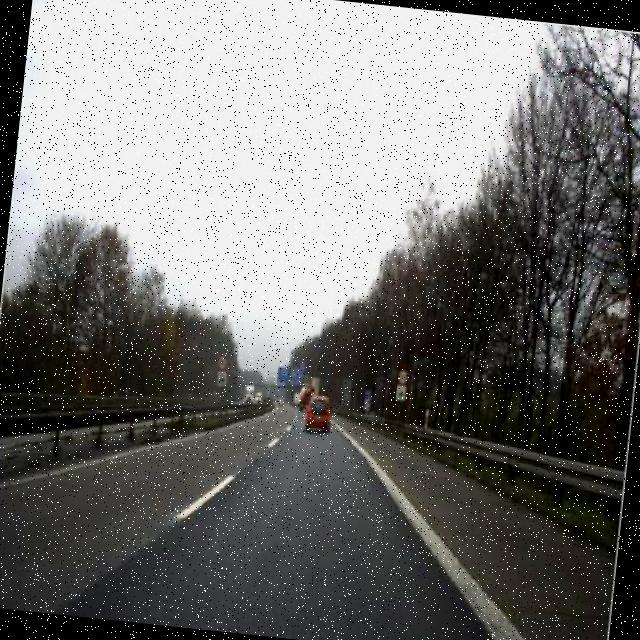Ograniczenie predkosci do 80: (215, 352, 229, 372), (395, 366, 409, 386)
